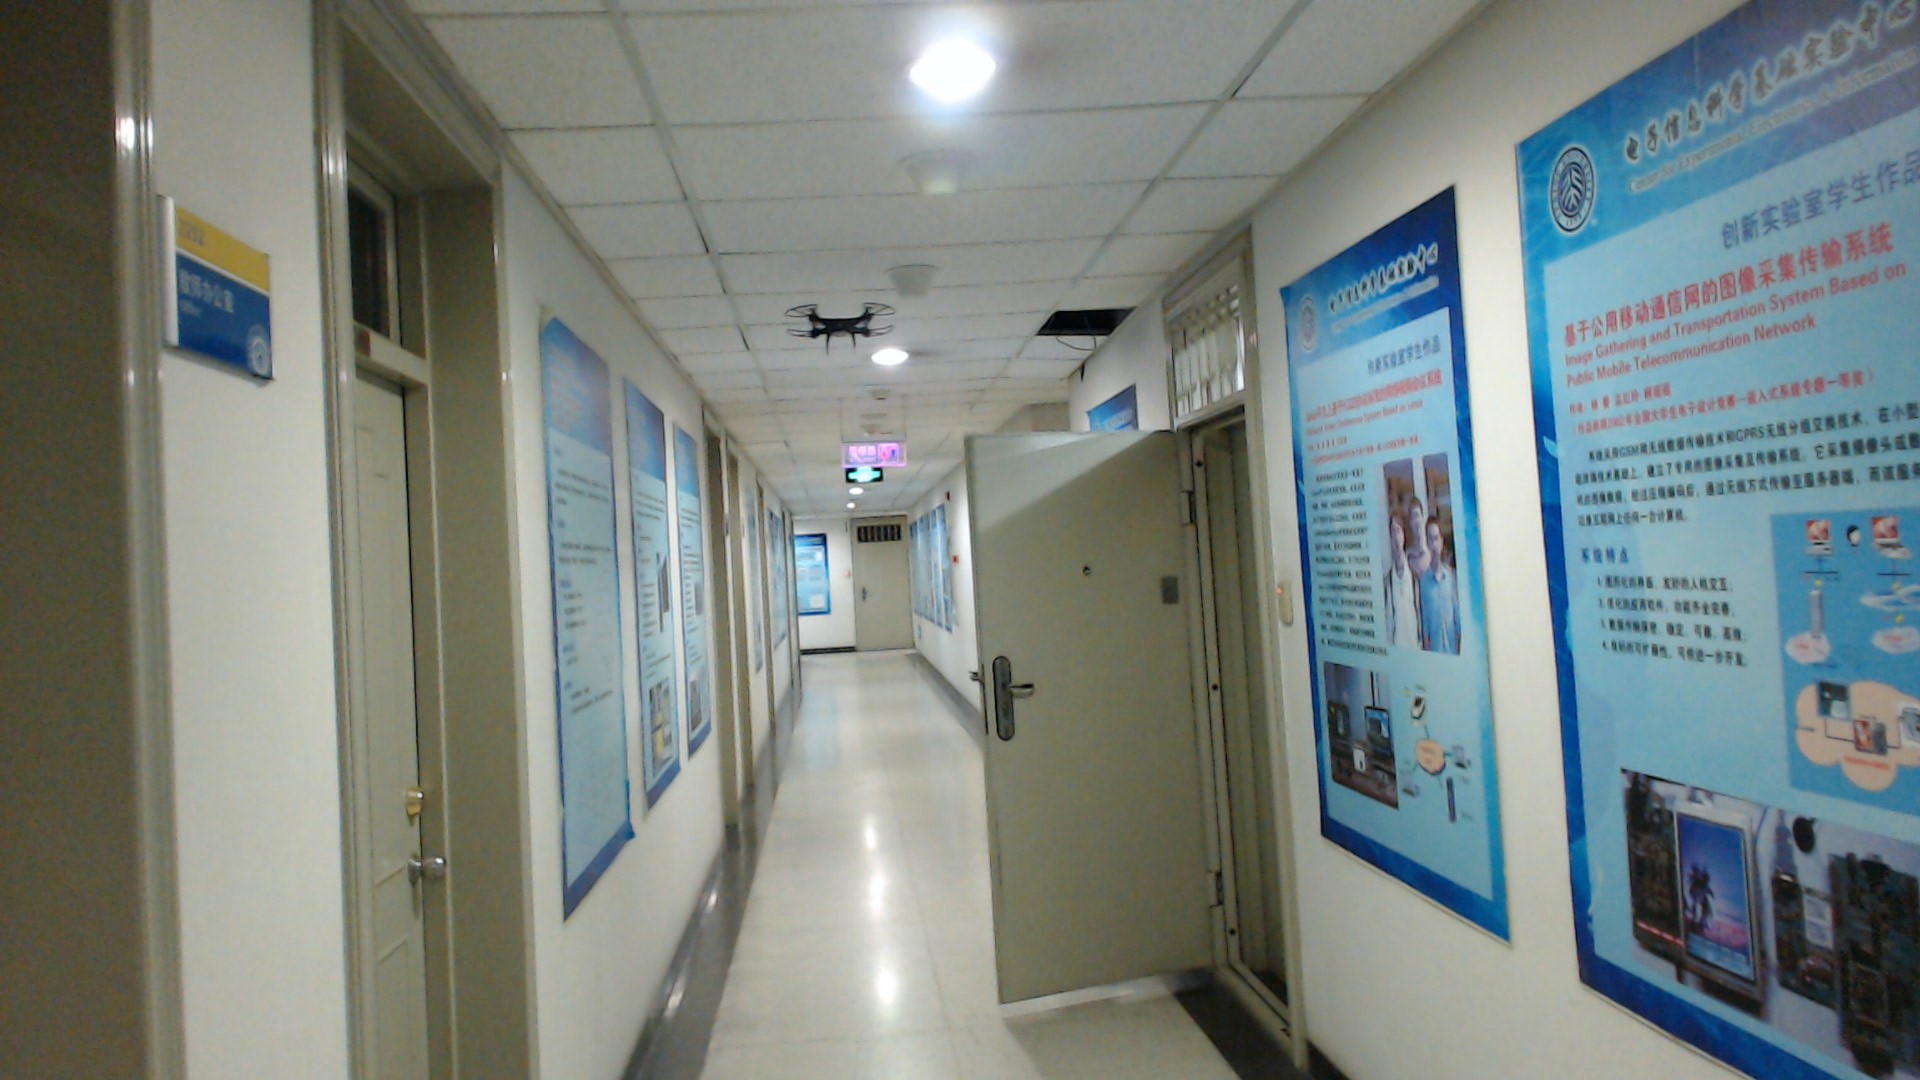test_drone: (775, 295, 901, 359)
